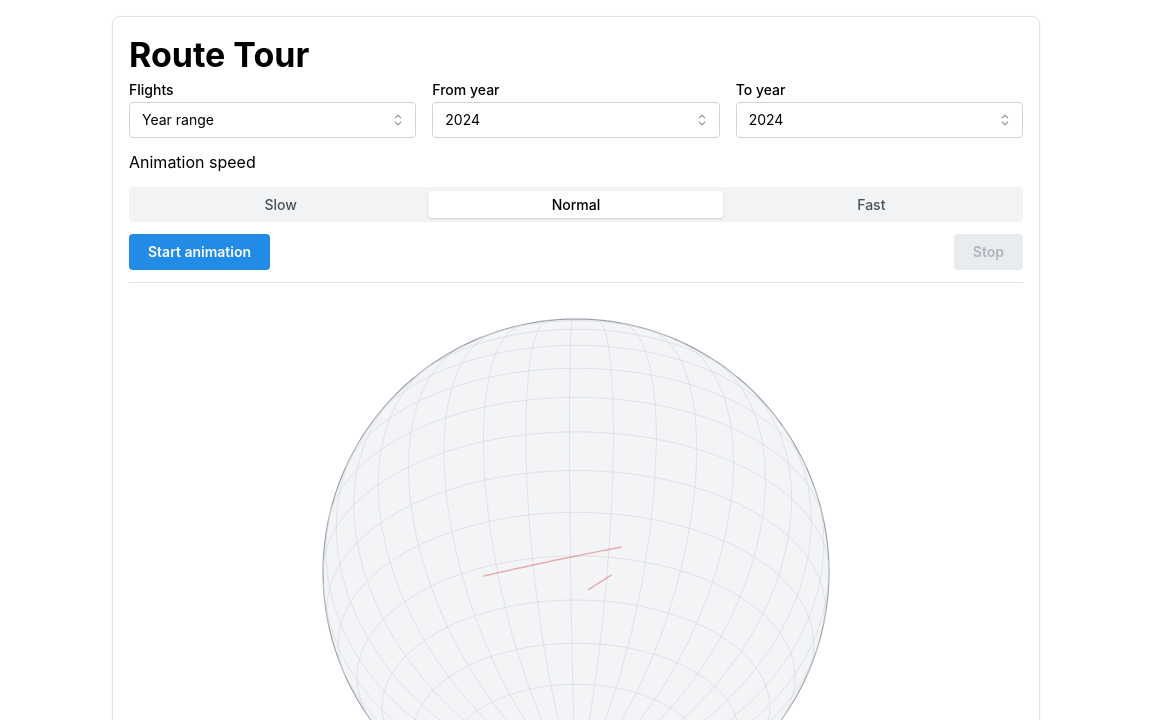
it: WorldTour › orders flights on the same day by departure time
Click the button "Start animation".
click(200, 252)  # box top-left (129, 234), bottom-right (270, 270)
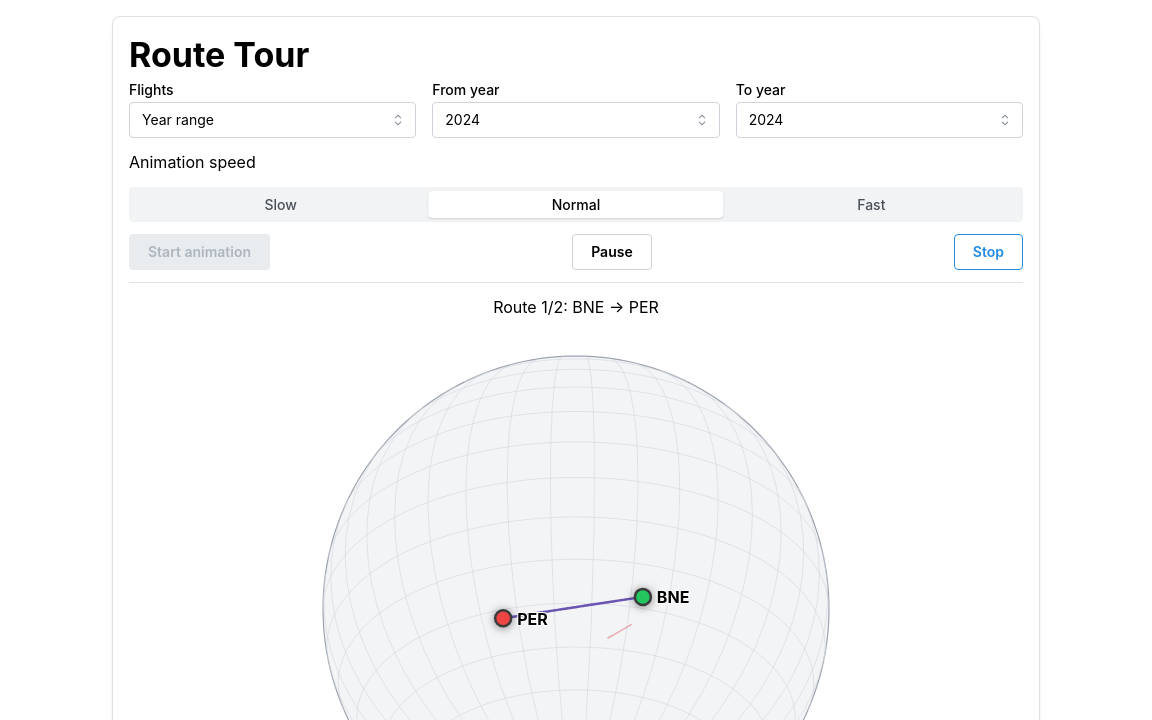
Now the text "Route 1/2: BNE -> PER" is shown, box top-left (493, 298), bottom-right (659, 318)
